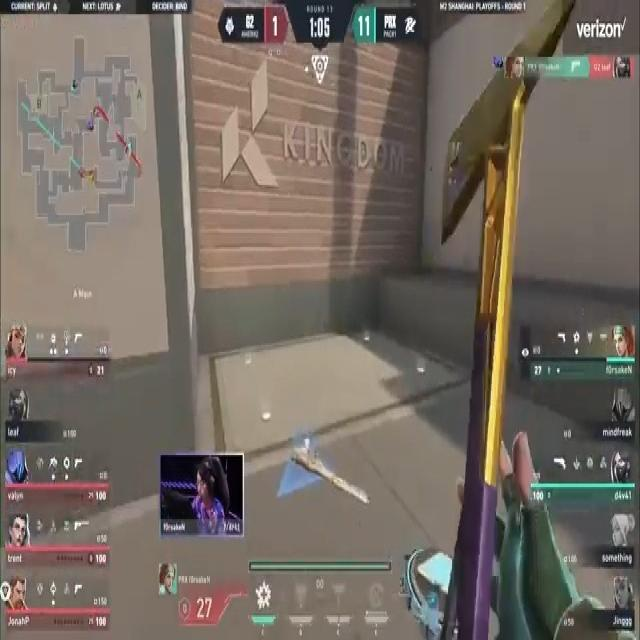gun: (290, 426, 370, 521)
